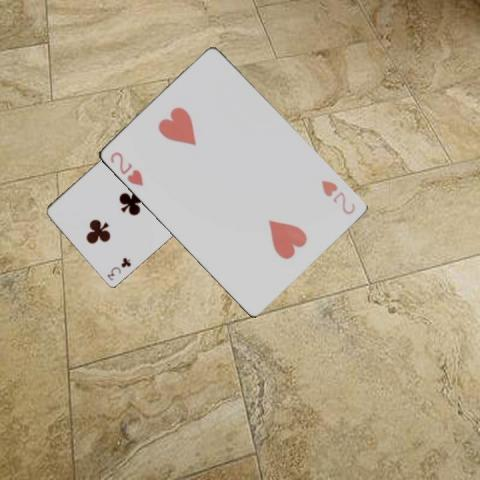2h: (317, 177, 357, 216), (107, 149, 144, 187)
3c: (104, 255, 133, 282)
